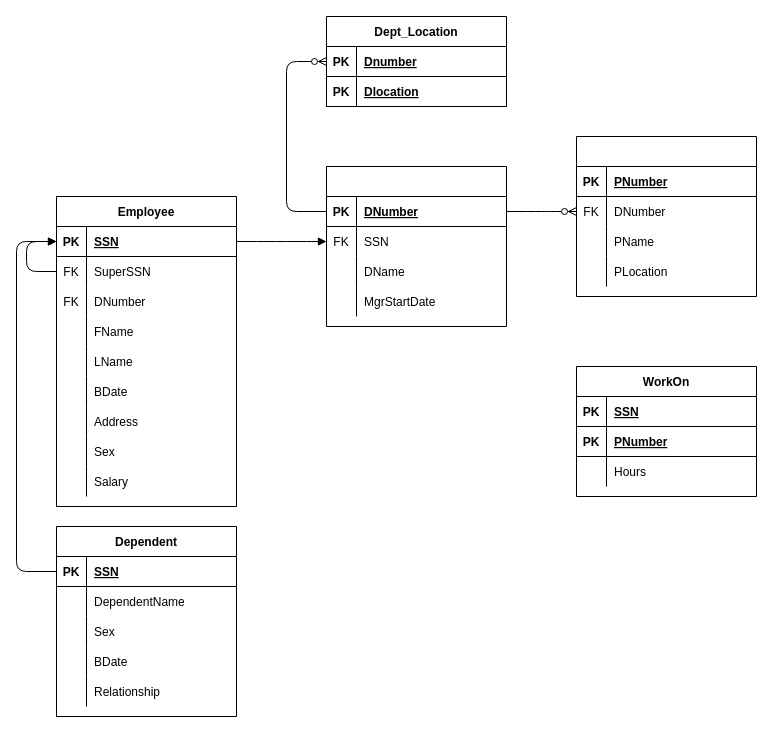
Image size: 773x733. Some labels were removed from this diagram. The shapes that lost their labels are listed below. From the top down, each one's box as (x1, y1, x2, y2) in pixels, then its label:
(576, 136, 756, 296): Project
(326, 166, 506, 326): Departemen
